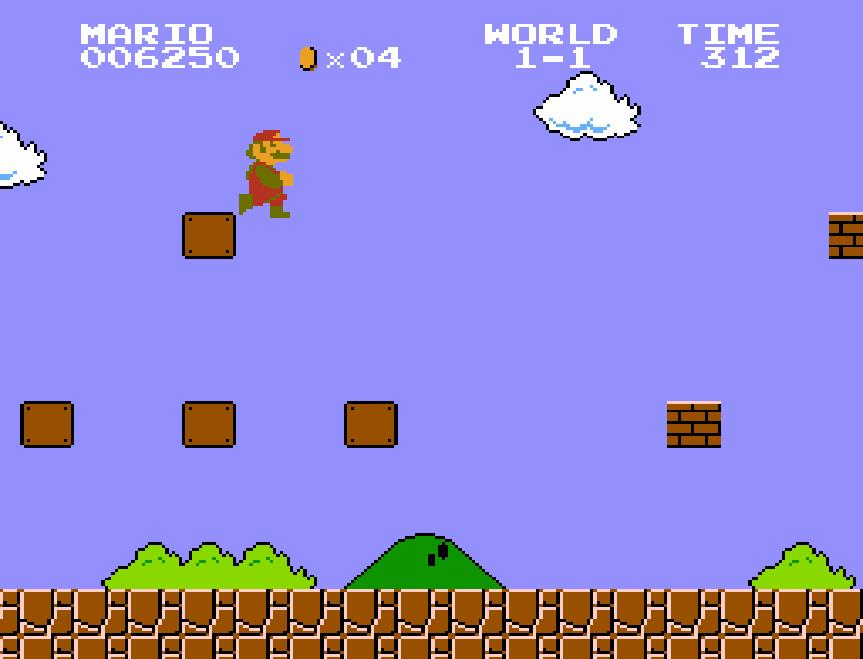big_mario: (236, 121, 294, 219)
